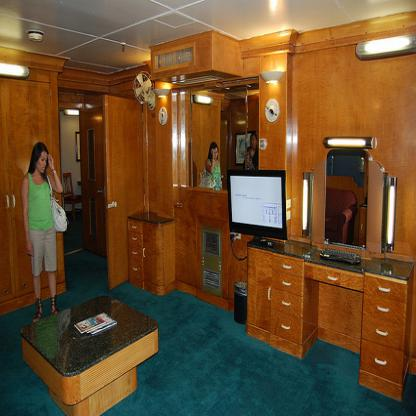handbag: (47, 176, 67, 235), (199, 169, 216, 188)
